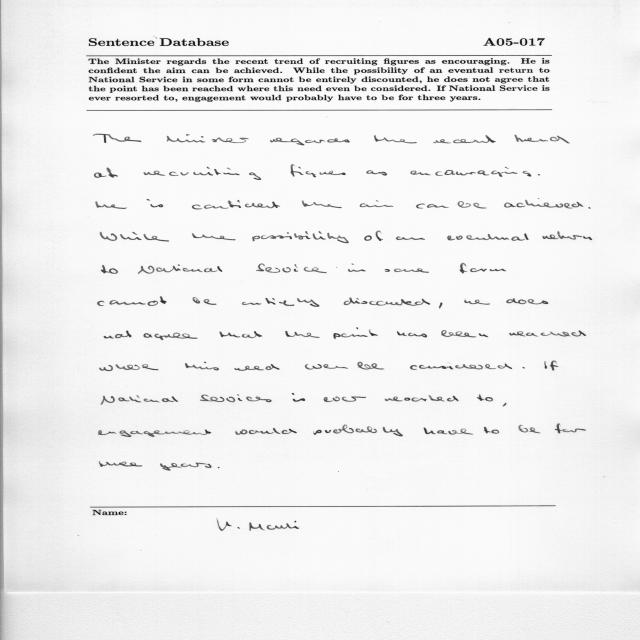word: (144, 167, 261, 180), (411, 167, 532, 177), (252, 231, 349, 243), (313, 425, 403, 437), (138, 264, 222, 274), (192, 200, 280, 209), (504, 199, 583, 209), (99, 430, 211, 437), (344, 297, 430, 306), (101, 395, 178, 405), (167, 134, 249, 143), (291, 165, 346, 178), (410, 363, 512, 370), (256, 264, 327, 274), (242, 298, 319, 307), (100, 232, 169, 242), (98, 296, 166, 306), (447, 233, 529, 241), (270, 138, 350, 146), (200, 394, 272, 402), (385, 395, 459, 402), (433, 135, 496, 143), (514, 135, 570, 144), (333, 328, 378, 339), (509, 331, 586, 337), (460, 263, 506, 273), (543, 231, 593, 240), (235, 428, 297, 435), (93, 134, 141, 143), (160, 463, 212, 471), (100, 364, 159, 371), (374, 135, 417, 144), (144, 333, 198, 340), (441, 330, 488, 338), (424, 428, 473, 435), (234, 364, 280, 371), (302, 201, 342, 209), (192, 234, 235, 241), (220, 331, 263, 338), (555, 424, 586, 433), (185, 362, 219, 370), (94, 167, 118, 178), (305, 364, 348, 370), (100, 461, 143, 467), (507, 299, 549, 305), (324, 396, 366, 402), (285, 331, 320, 338), (360, 200, 394, 207), (458, 201, 487, 209), (385, 268, 429, 273), (96, 202, 127, 209), (104, 331, 131, 339), (357, 362, 384, 370), (193, 297, 217, 305), (364, 231, 383, 241), (397, 331, 427, 337), (519, 425, 541, 433), (416, 204, 449, 209), (348, 263, 366, 272), (101, 265, 118, 274), (464, 300, 490, 305), (147, 199, 163, 207), (477, 394, 493, 402), (366, 170, 387, 176), (545, 361, 558, 370), (292, 393, 305, 402), (396, 236, 425, 240), (484, 427, 499, 434), (439, 303, 443, 309), (503, 403, 507, 407), (522, 367, 525, 369), (538, 174, 540, 176), (589, 207, 591, 209), (218, 467, 220, 468)
